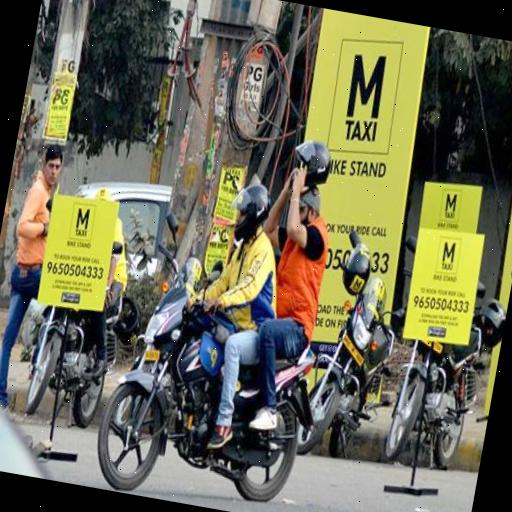helmet: (146, 154, 298, 480)
